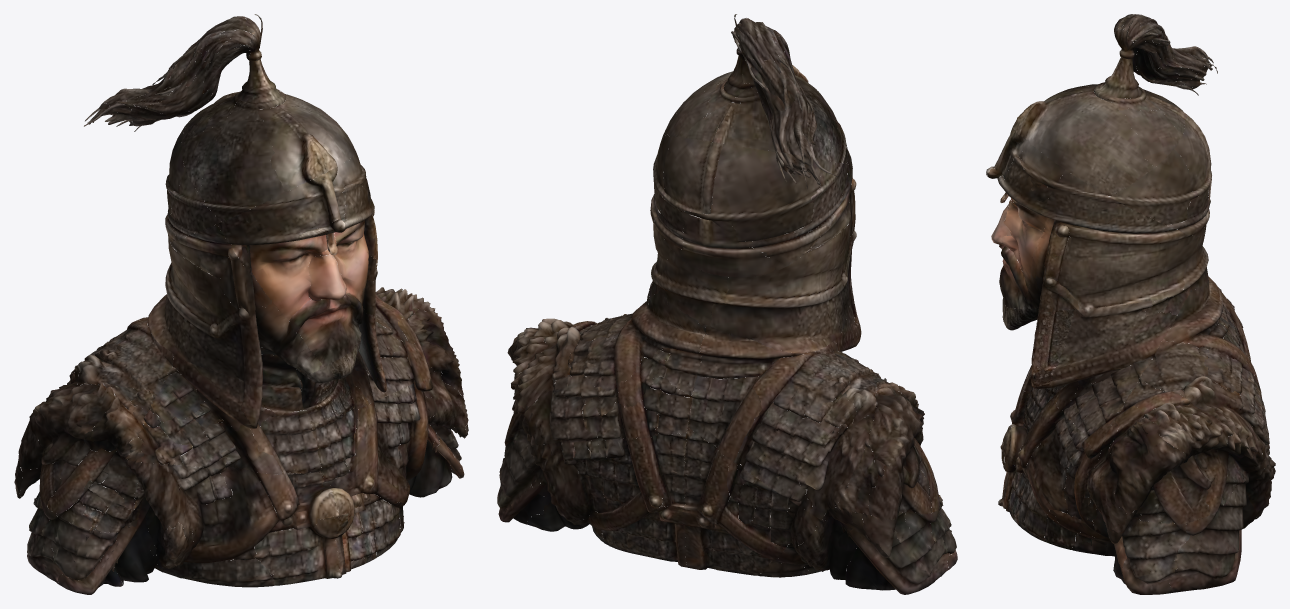
File: bogenbay-batyr.glb
3 views of the same model, side by side, from view 1: azimuth 30°, elevation 25°; view 2: azimuth 150°, elevation 25°; view 3: azimuth 270°, elevation 25° (orthographic). The views are drawn at different scales.
Parts seen in each view (by area): view 1: tripo_node_5c90485d-1a61-478c-aff8-95e4ab81e760; view 2: tripo_node_5c90485d-1a61-478c-aff8-95e4ab81e760; view 3: tripo_node_5c90485d-1a61-478c-aff8-95e4ab81e760.
Boxes of the visible parts, x1,y1,x2,y2 form: tripo_node_5c90485d-1a61-478c-aff8-95e4ab81e760: (14,14,468,594); tripo_node_5c90485d-1a61-478c-aff8-95e4ab81e760: (497,14,957,594); tripo_node_5c90485d-1a61-478c-aff8-95e4ab81e760: (986,14,1275,594).
Bounding box in the file's own units: 0.8391 × 0.9789 × 0.537.
Materials: 1 (1 with a texture image).
